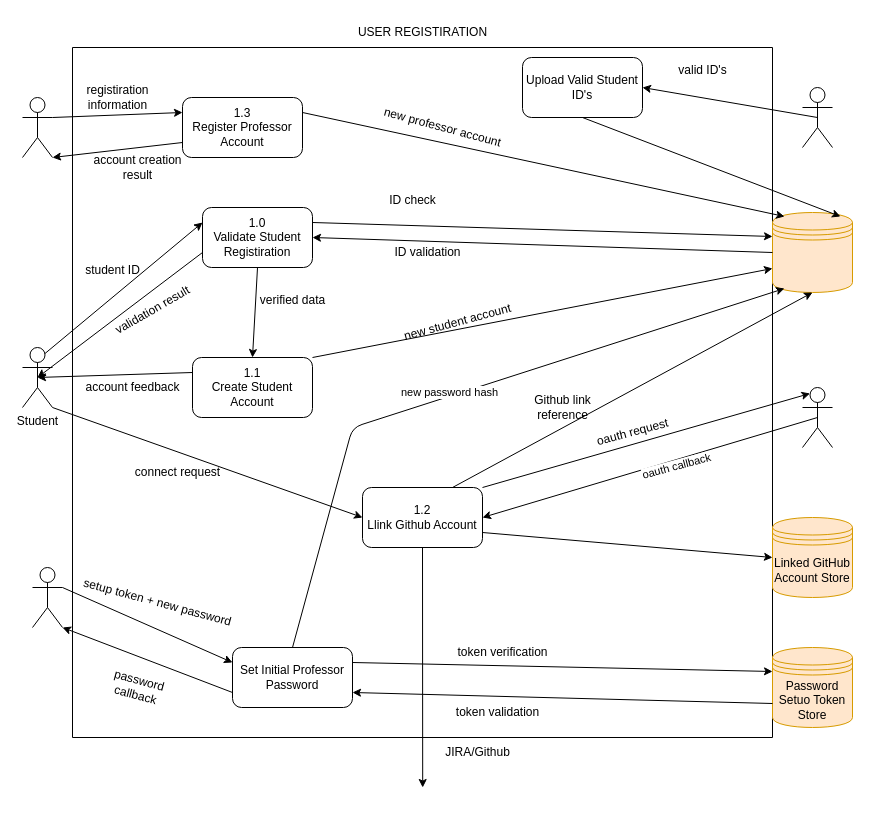
The diagram is 870 pixels wide and 813 high, and some of its shapes have lost their labels. Each missing label, with the box of its shape:
Admin: (22, 96, 52, 158)
Coordinator: (802, 86, 832, 148)
GitHub Auth Service: (802, 386, 832, 448)
Professor: (32, 566, 62, 628)
User Database: (772, 212, 852, 292)
